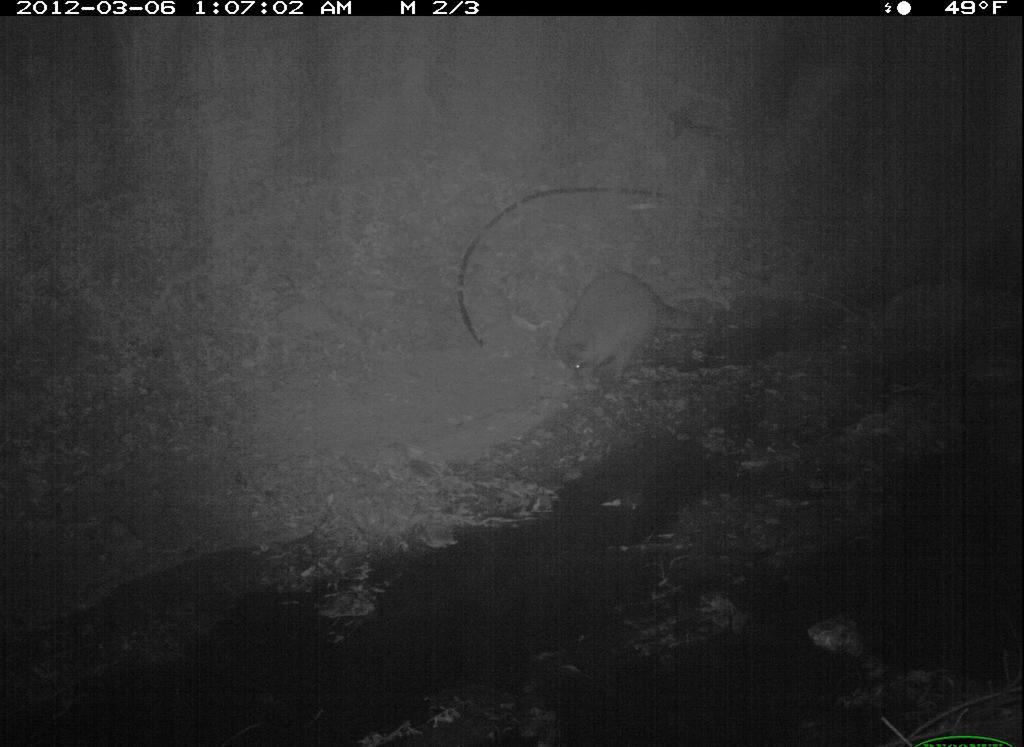raccoon: (555, 267, 717, 396)
